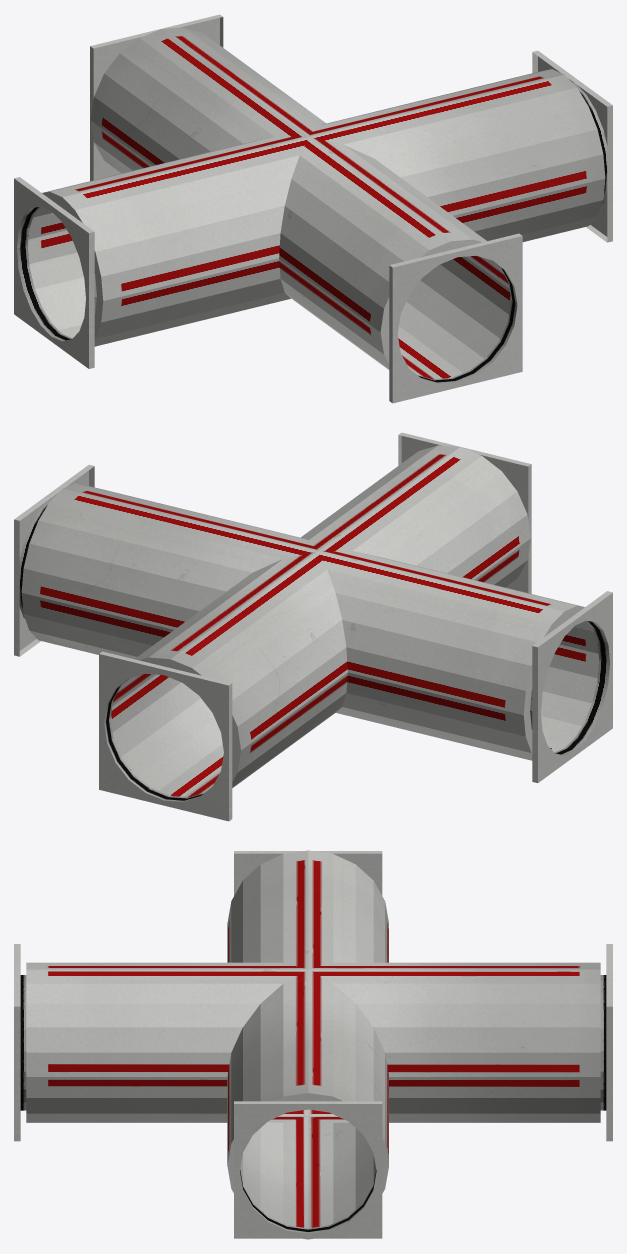
The model's file is FourWayHall.fbx.
3 renders of one model, top to bottom at view 1: azimuth 30°, elevation 25°; view 2: azimuth 150°, elevation 25°; view 3: azimuth 270°, elevation 25°, orthographic.
Parts seen in each view (by area): view 1: polySurface1; view 2: polySurface1; view 3: polySurface1.
Part boxes in pixels (box(x1,y1,x2,y2)): polySurface1: box(14, 14, 612, 403); polySurface1: box(14, 432, 612, 821); polySurface1: box(14, 850, 612, 1239).
Bounding box in the file's own units: 32.28 × 8.72 × 32.28.
